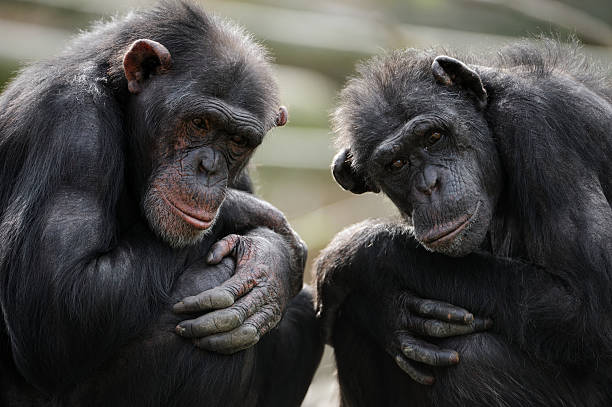chimpanzee: (59, 1, 296, 305), (320, 26, 534, 287)
